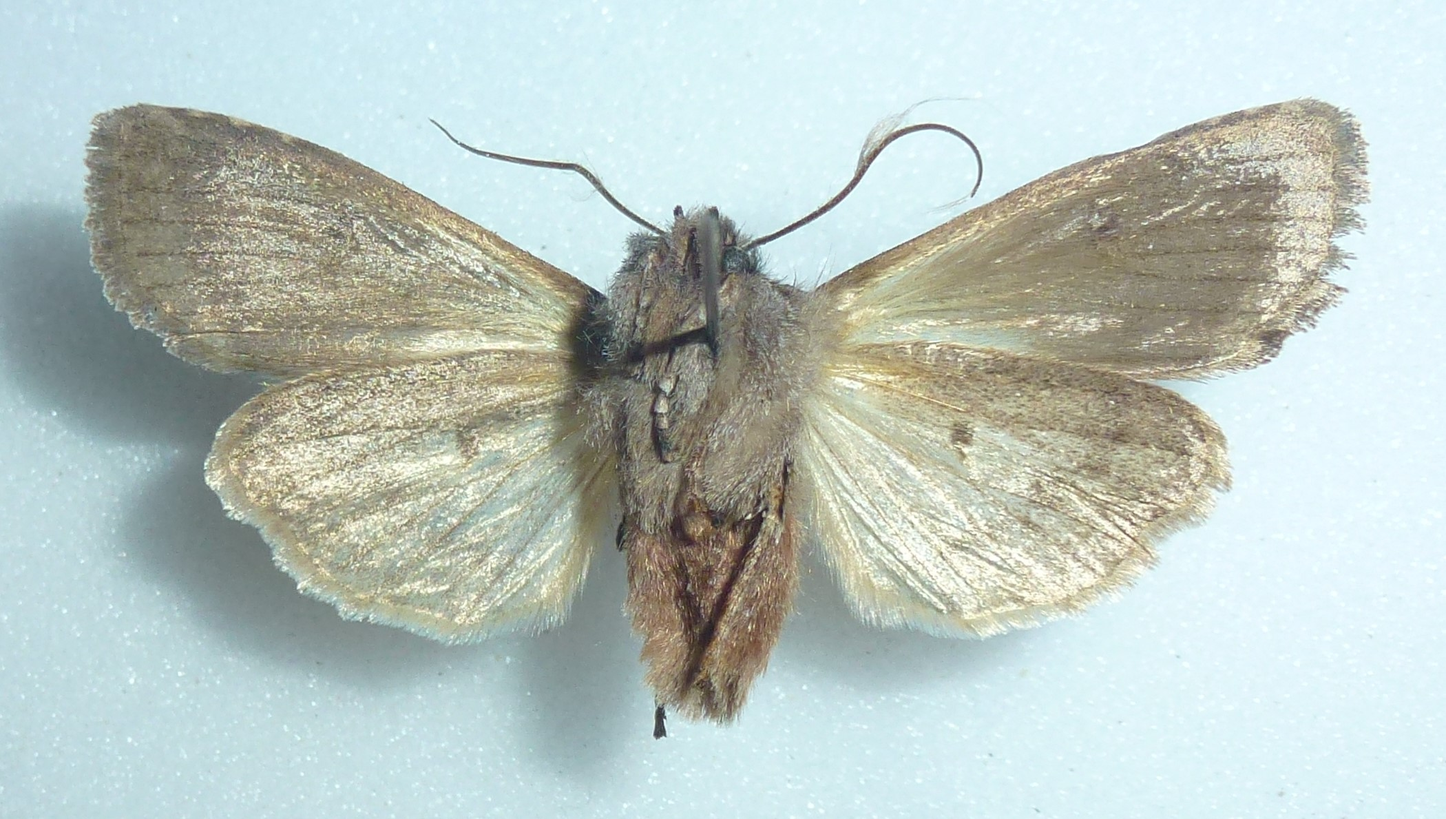Noctuidae: (86, 98, 1368, 733)
